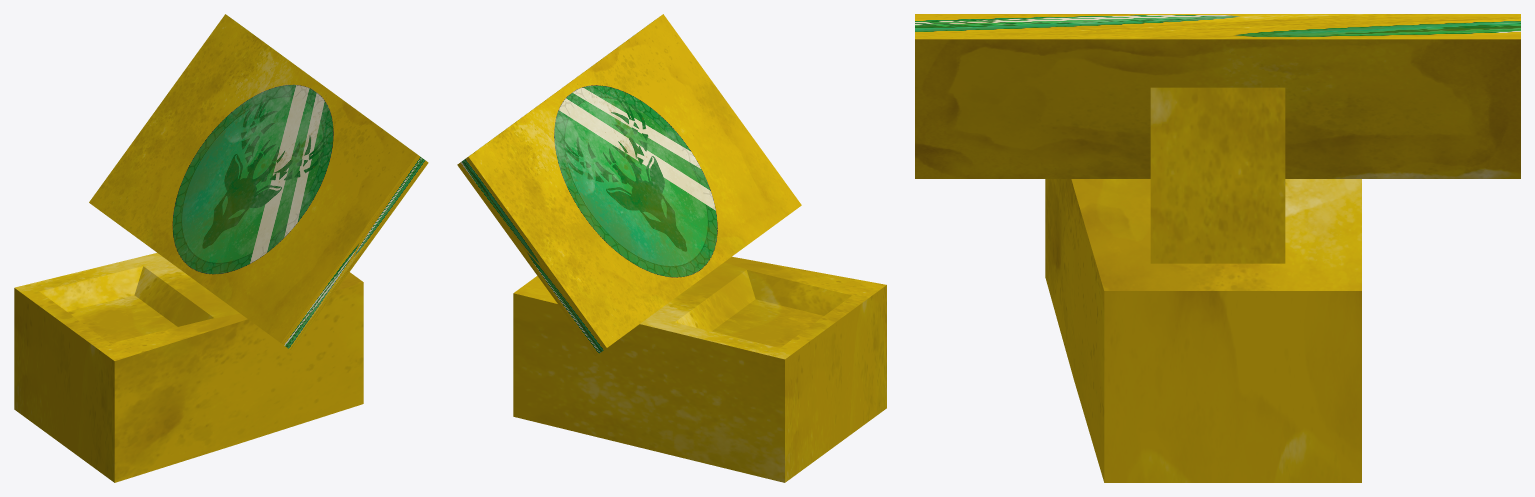
The model's file is Activador_ciervo.glb.
3 renders of one model, left to right at view 1: azimuth 30°, elevation 25°; view 2: azimuth 150°, elevation 25°; view 3: azimuth 270°, elevation 25°, orthographic. The views are drawn at different scales.
Visible parts, largest first — view 1: N_activador.001; view 2: N_activador.001; view 3: N_activador.001.
Boxes of the visible parts, bbox=[...] form: N_activador.001: bbox=[14, 14, 428, 482]; N_activador.001: bbox=[457, 14, 886, 482]; N_activador.001: bbox=[915, 14, 1520, 482].
Size of the model in its own units: 1.01 by 1.04 by 1.23.
1 material, 1 textured.
